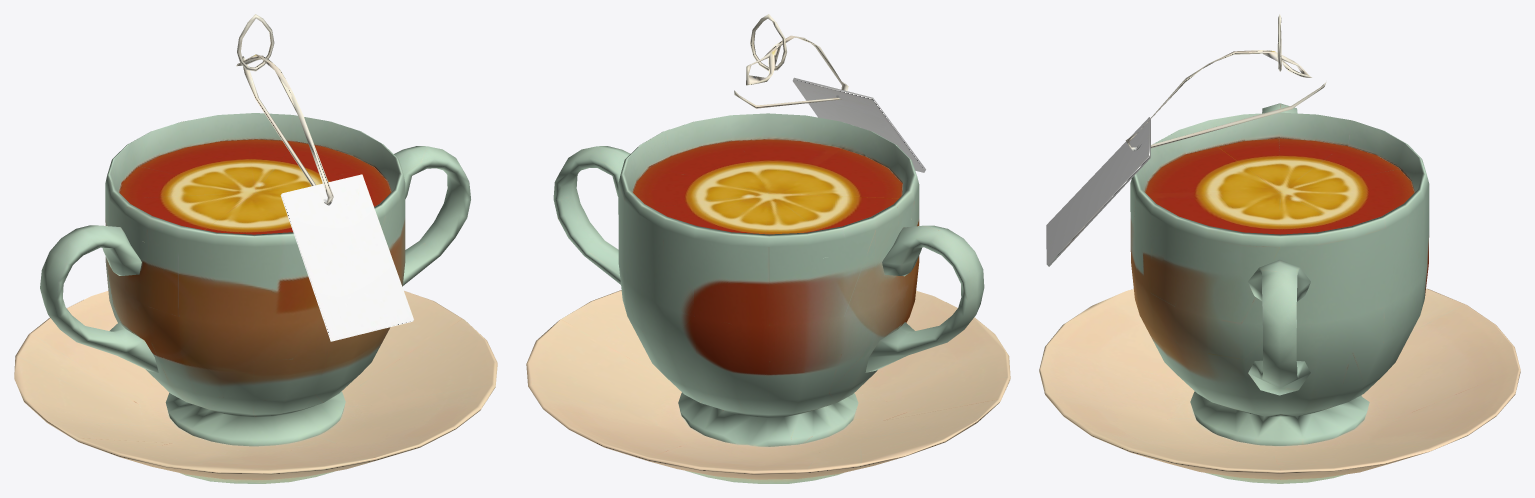
File: food_tea.glb
3 renders of one model, left to right at view 1: azimuth 30°, elevation 25°; view 2: azimuth 150°, elevation 25°; view 3: azimuth 270°, elevation 25°, orthographic.
Size of the model in its own units: 1 by 0.9591 by 1.
1 material, 1 textured.
